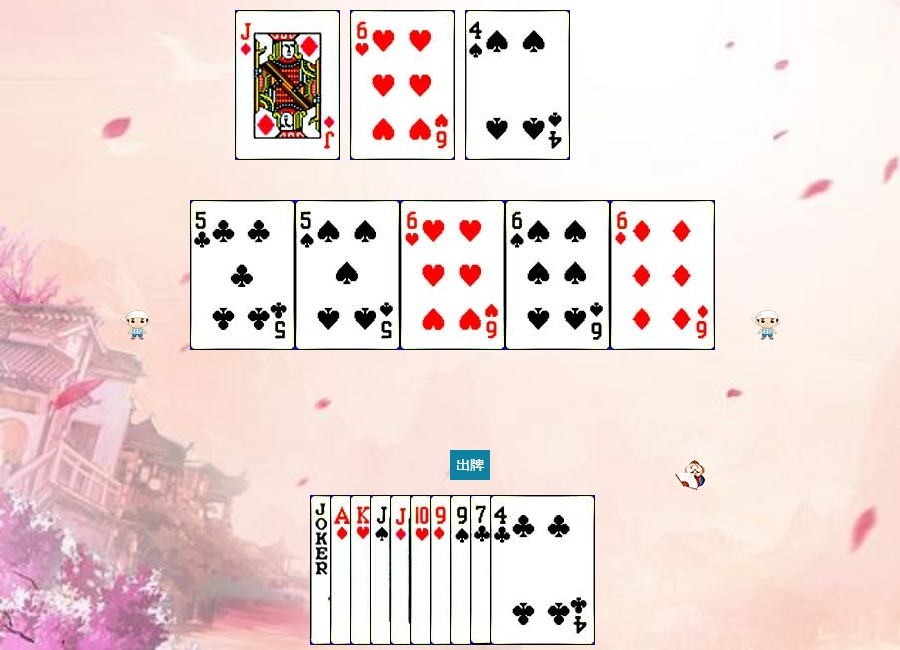10~3: (410, 495, 515, 645)
11~1: (235, 10, 340, 160), (390, 495, 495, 645)
11~4: (370, 495, 475, 645)
13~3: (350, 495, 455, 645)
14~1: (330, 495, 435, 645)
17~3: (310, 495, 415, 645)
4~2: (490, 495, 595, 645)
4~4: (465, 10, 570, 160)
5~2: (190, 200, 295, 350)
5~4: (295, 200, 400, 350)
6~1: (610, 200, 715, 350)
6~3: (350, 10, 455, 160), (400, 200, 505, 350)
6~4: (505, 200, 610, 350)
7~2: (470, 495, 575, 645)
9~1: (430, 495, 535, 645)
9~4: (450, 495, 555, 645)
